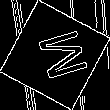M_W: (24, 26, 86, 84)
